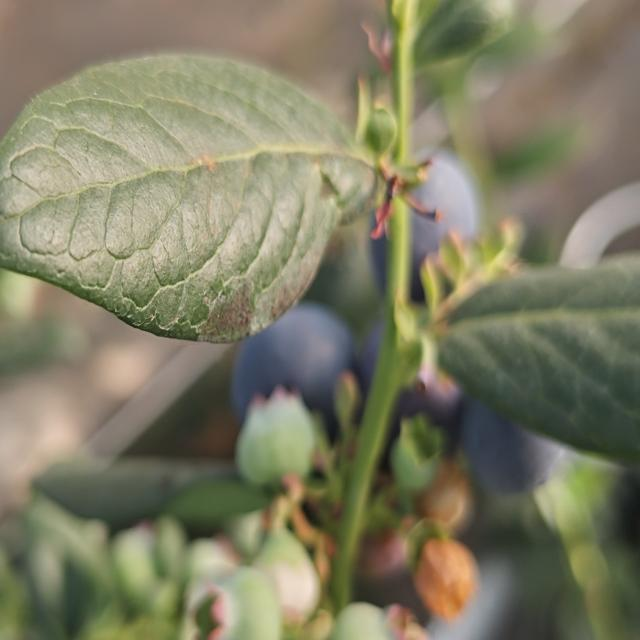ripe: (208, 297, 356, 444), (358, 137, 483, 303), (457, 369, 575, 508), (360, 314, 470, 442)
